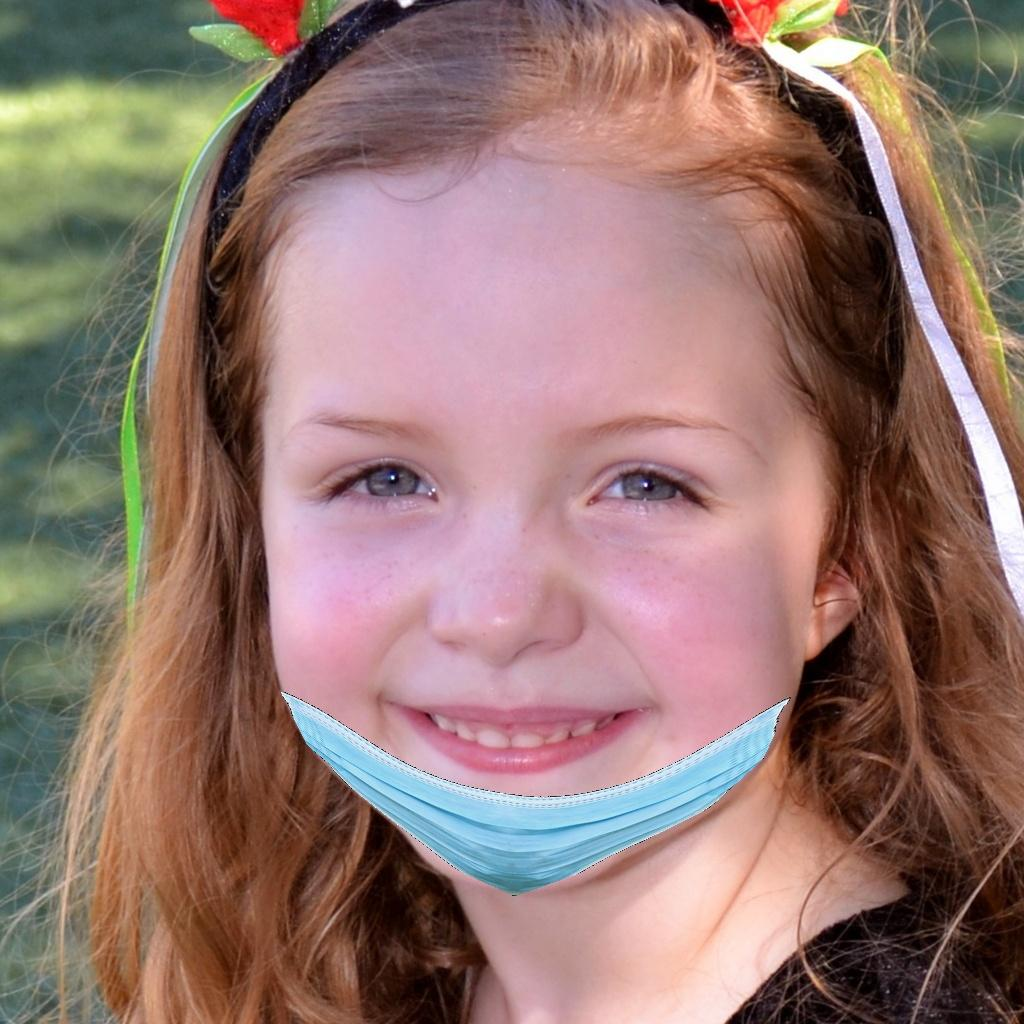Máscara Incorreta: (244, 261, 805, 890)
